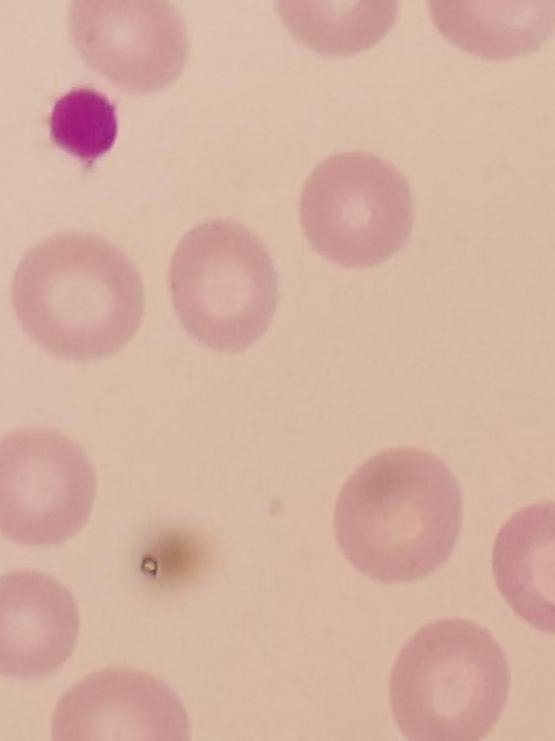Uninfected: (10, 232, 143, 360), (332, 449, 461, 580), (167, 220, 279, 349), (389, 619, 508, 737), (297, 150, 413, 264), (71, 0, 185, 92), (0, 429, 92, 543), (51, 667, 188, 741), (0, 571, 77, 674)
